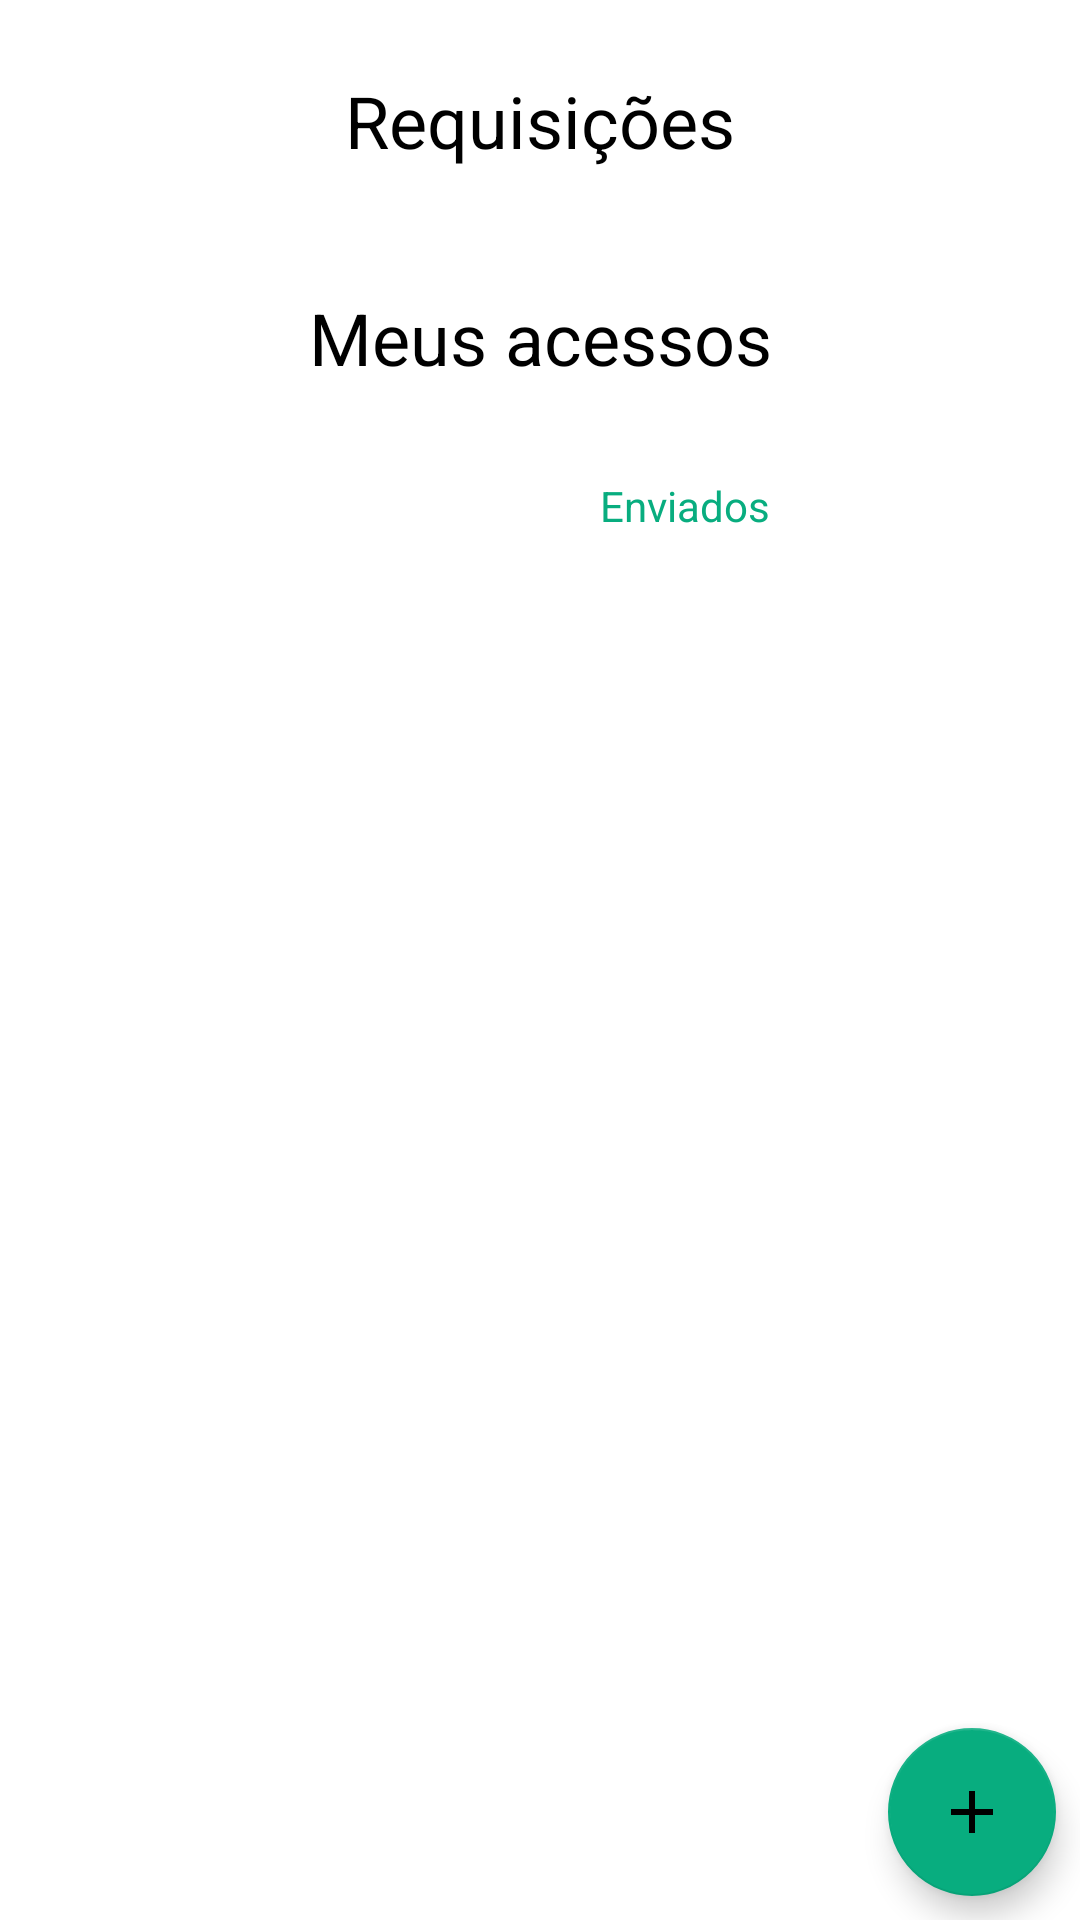

Point at icon controls on the screen. Image size 1080px x 1920px, points as (x=x, y=y).
add: (x=972, y=1812)
